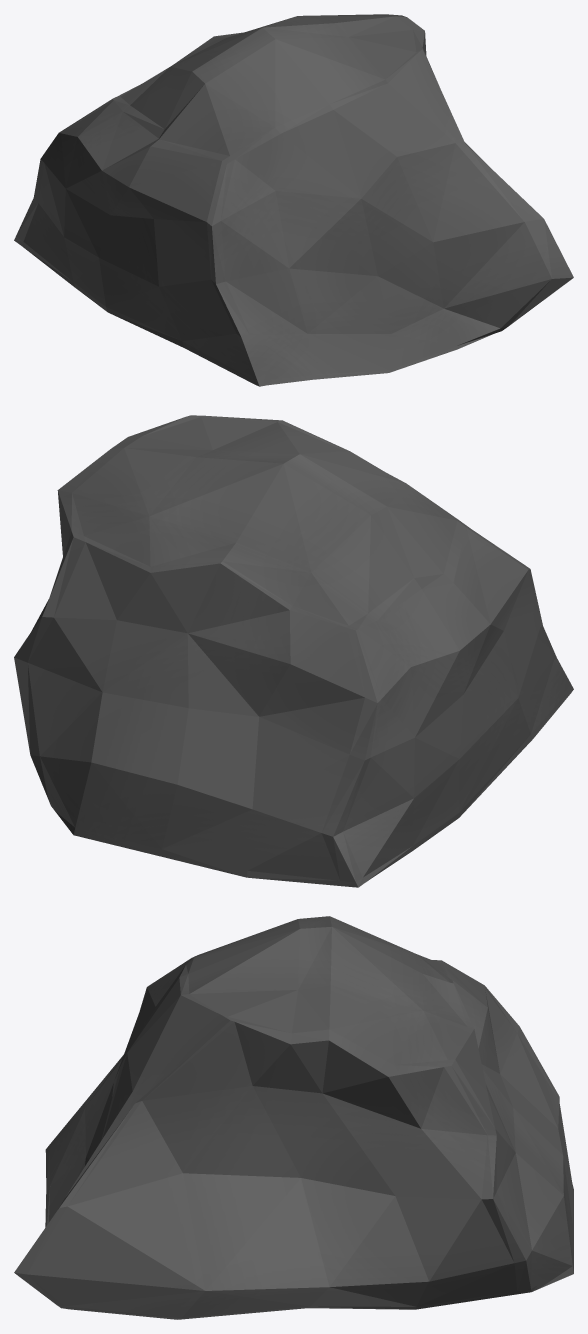
Rendered from PEDRA1_normals.fbx.
3 renders of one model, top to bottom at view 1: azimuth 30°, elevation 25°; view 2: azimuth 150°, elevation 25°; view 3: azimuth 270°, elevation 25°, orthographic. The views are drawn at different scales.
Visible parts, largest first — view 1: Cube; view 2: Cube; view 3: Cube.
Boxes of the visible parts, x1,y1,x2,y2 form: Cube: (14,14,573,386); Cube: (14,415,573,887); Cube: (14,916,573,1319).
Size of the model in its own units: 312 by 212 by 336.
